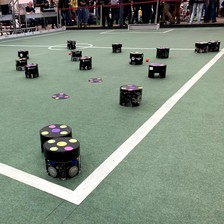ball: (143, 56, 150, 62), (67, 49, 71, 56)
goal: (126, 20, 160, 30)
robot: (41, 134, 82, 180), (115, 82, 143, 106), (147, 61, 168, 79), (22, 61, 40, 78), (75, 54, 92, 71), (152, 45, 169, 59), (127, 49, 143, 63), (192, 38, 206, 52), (206, 38, 220, 52), (14, 56, 26, 70), (108, 42, 122, 54), (70, 49, 81, 62), (16, 47, 30, 57), (64, 38, 75, 50)
